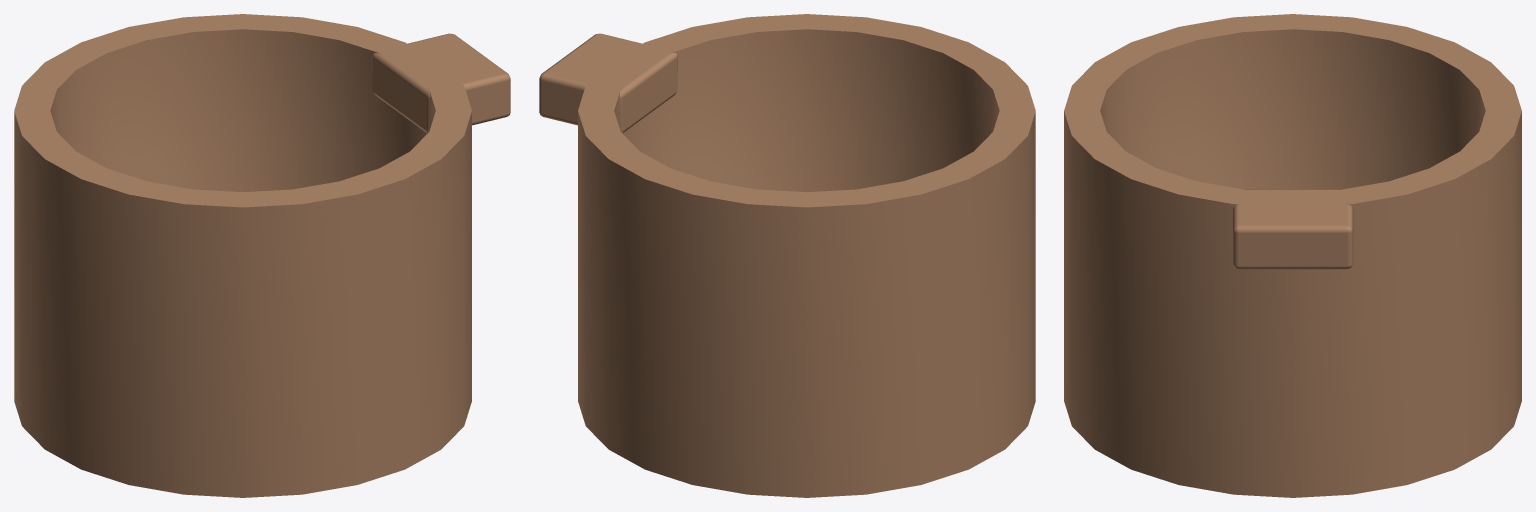
File: primitive-crafting-workshop-clay-crucible-aed78557__21588.glb
3 renders of one model, left to right at view 1: azimuth 30°, elevation 25°; view 2: azimuth 150°, elevation 25°; view 3: azimuth 270°, elevation 25°, orthographic.
Visible parts, largest first — view 1: clay-crucible; view 2: clay-crucible; view 3: clay-crucible.
Boxes of the visible parts, box(x1,y1,x2,y2) form: clay-crucible: box(14, 14, 510, 497); clay-crucible: box(539, 14, 1035, 497); clay-crucible: box(1064, 14, 1521, 497).
Bounding box in the file's own units: 0.21 × 0.14 × 0.19.
